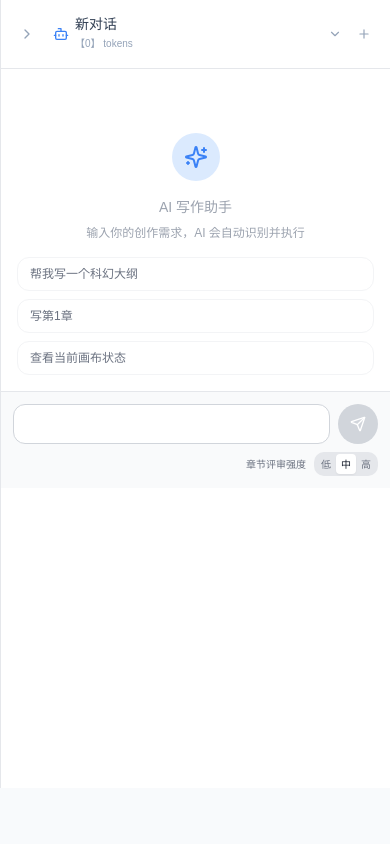
it: AgentChat context quote › closes the session dropdown when clicking outside
The image size is (390, 844).
Click the text "新对话".
click(96, 24)  # box [75,16,117,32]
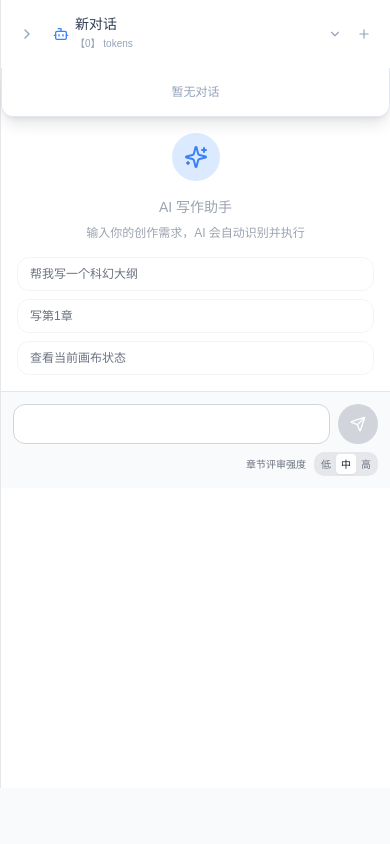
Result: the text "暂无对话" is shown at [172,85,220,99]
Press the mouse on the element that starts with "新对话" at (195, 422), box [0,0,389,843]
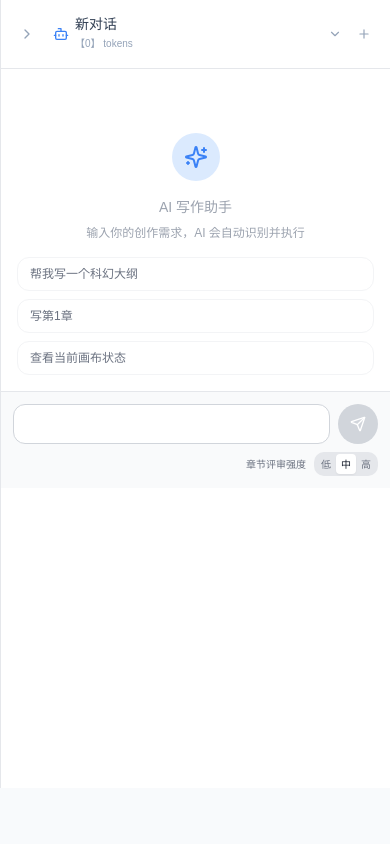
Result: the text "暂无对话" is gone
